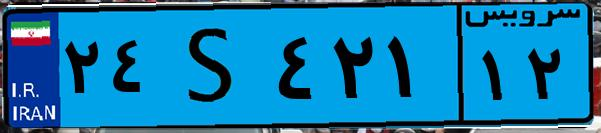1: (385, 28, 445, 110), (475, 38, 525, 113)
2: (330, 28, 385, 110), (57, 26, 110, 100), (525, 38, 570, 115)
4: (270, 28, 330, 110), (110, 28, 158, 98)
S: (158, 12, 270, 120)
